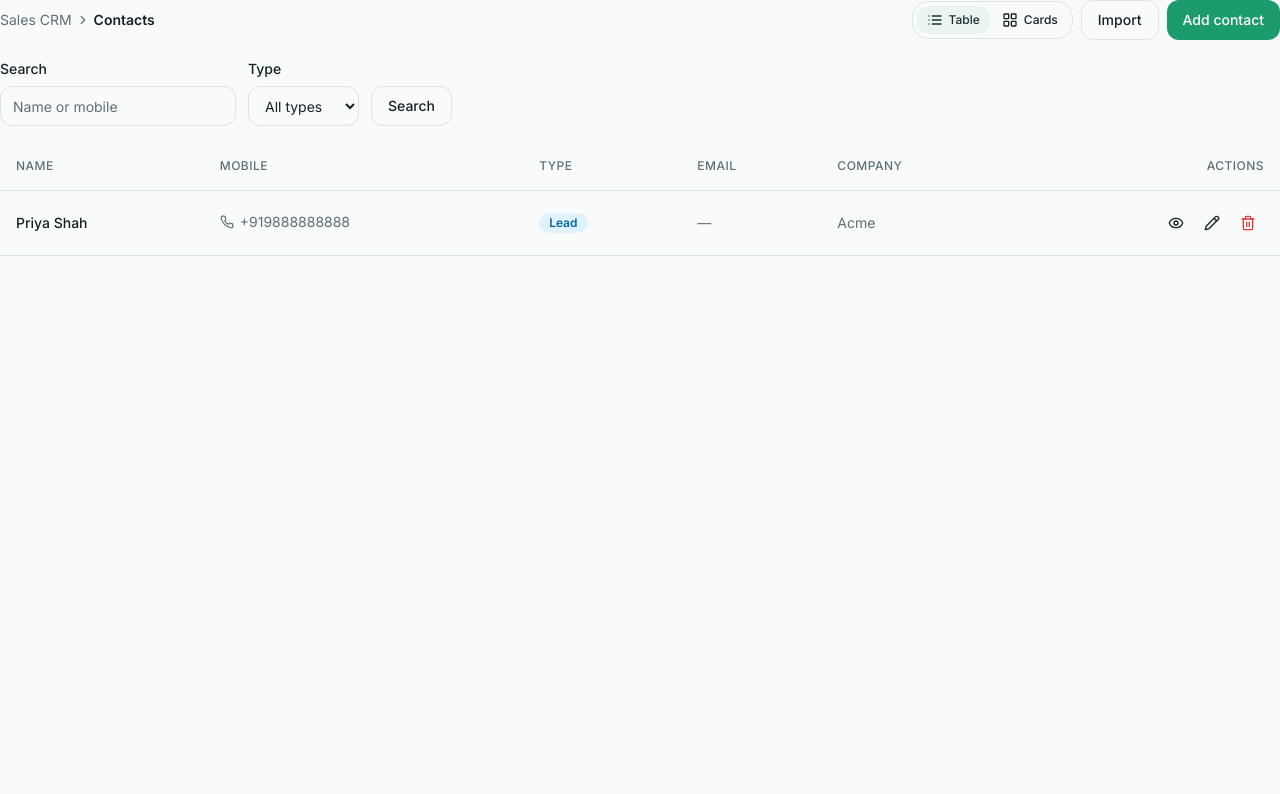
CRM modules › opens a contact view with enquiry follow-ups and payments tabs
The image size is (1280, 794).
Click the button named "View". click: [1176, 222]
box: [1160,206,1192,238]
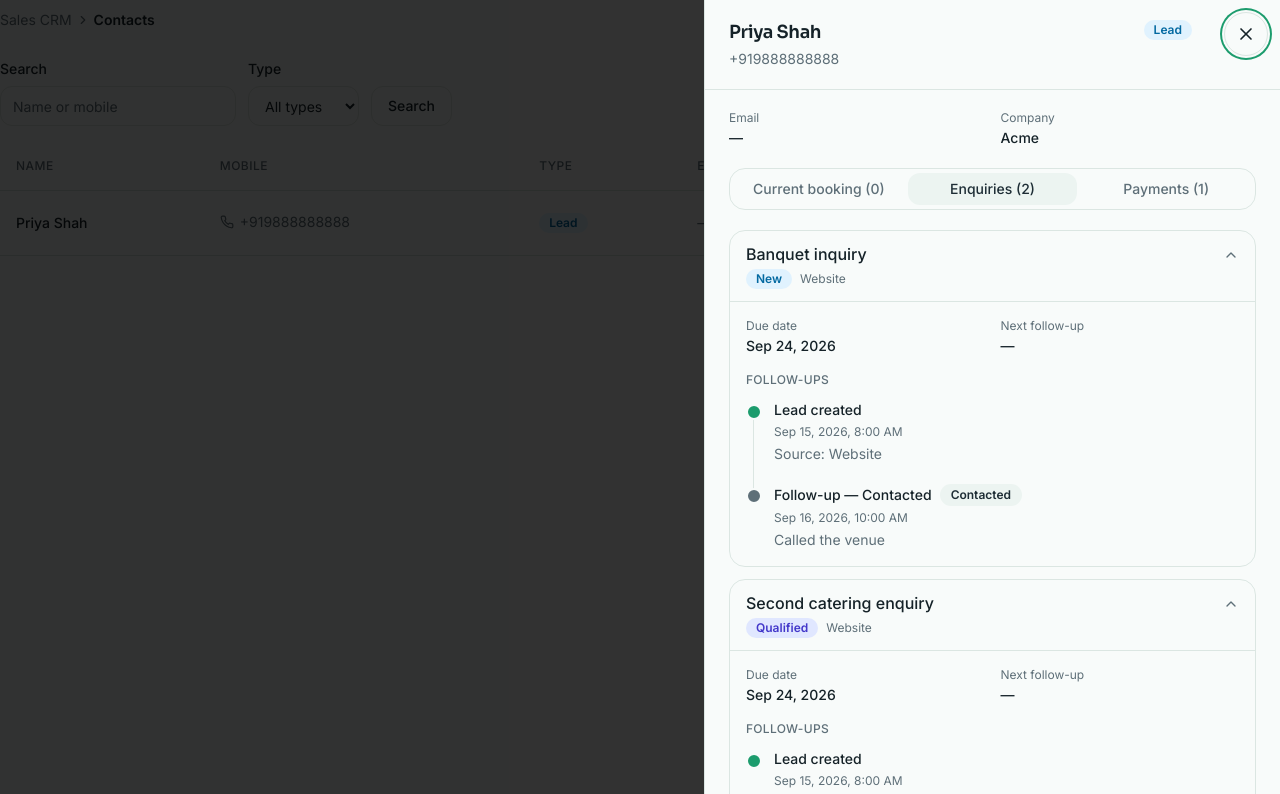
Now the tab "Current booking (0)" is shown, box [734,173,904,205]
Now the tab "Enquiries (2)" is shown, box [908,173,1077,205]
Now the tab "Payments (1)" is shown
Click the tab "Payments (1)". click: [1166, 189]
box: [1081,173,1251,205]
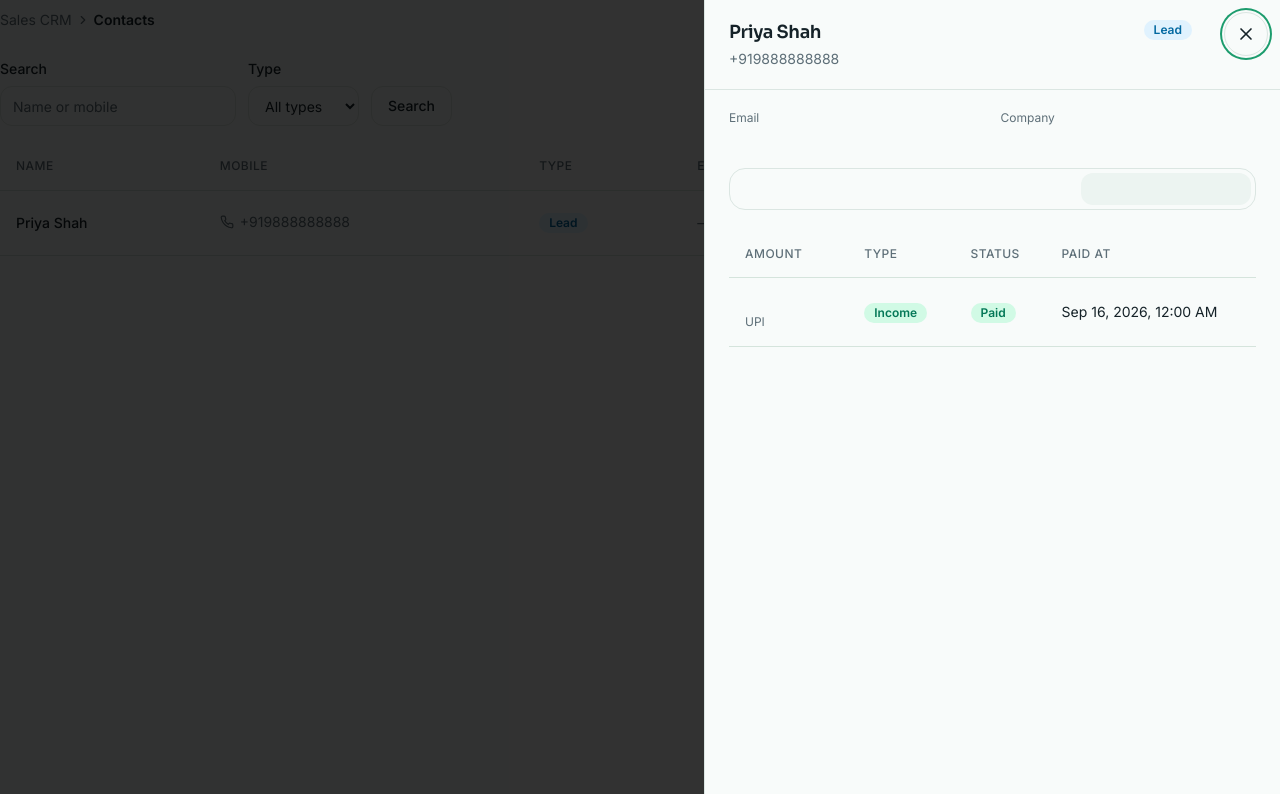
Now the text "Paid" is shown, box [970,303,1016,323]
Now the text "Income" is shown, box [864,303,927,323]
